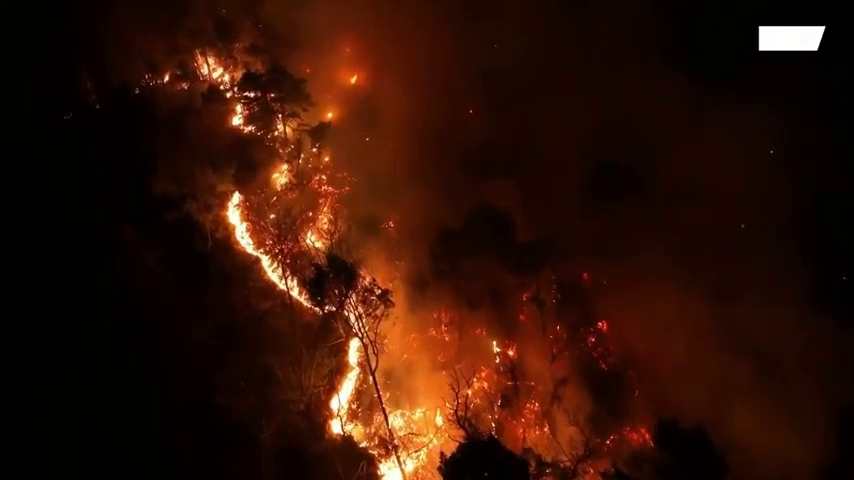forest_fire: (147, 48, 652, 479), (573, 273, 587, 290), (347, 75, 356, 83), (235, 48, 236, 50)
